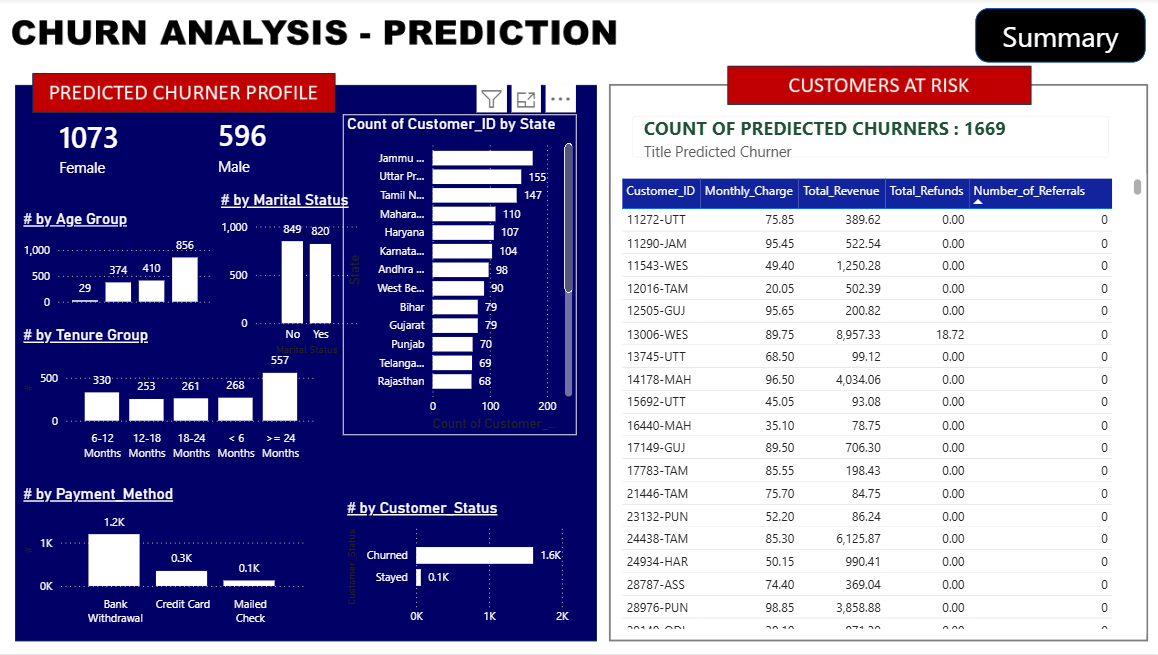

Layout of this report page (visuals, bound fields, positions):
{"tool":"powerbi","page":{"name":"churnprediction","canvas":[1280,720],"ordinal":1},"visuals":[{"type":"tableEx","fields":{"Values":["powerbi_data.Customer_ID","powerbi_data.Monthly_Charge","powerbi_data.Total_Revenue","powerbi_data.Total_Refunds","powerbi_data.Number_of_Referrals"]},"box":[682.9,192.9,581.4,504.3],"z":0},{"type":"cardVisual","fields":{"Data":["tbl_Measures.Title Predicted Churner"]},"box":[682.9,112.9,558.6,80],"z":1000},{"type":"cardVisual","fields":{"Data":["tbl_Measures.Count Predicted Churner"]},"box":[42.9,112.9,201.4,101.4],"z":2000},{"type":"cardVisual","fields":{"Data":["tbl_Measures.Count Predicted Churner"]},"box":[217.1,112.9,175.7,98.6],"z":3000},{"type":"clusteredColumnChart","fields":{"Category":["mapping_AgeGrp.Age Group"],"Y":["CountNonNull(powerbi_data.Customer_ID)"]},"box":[27.1,231.4,217.1,115.7],"z":4000},{"type":"clusteredColumnChart","fields":{"Category":["powerbi_data.Married"],"Y":["CountNonNull(powerbi_data.Customer_ID)"]},"box":[244.3,211.4,160,185.7],"z":5000},{"type":"clusteredColumnChart","fields":{"Category":["mapping_TenureGrp.Tenure Group"],"Y":["CountNonNull(powerbi_data.Customer_ID)"]},"box":[27.1,360,331.4,155.7],"z":6000},{"type":"clusteredBarChart","fields":{"Category":["powerbi_data.Customer_Status"],"Y":["CountNonNull(powerbi_data.Customer_ID)"]},"box":[382.9,548.6,257.1,148.6],"z":7000},{"type":"clusteredColumnChart","fields":{"Category":["powerbi_data.Payment_Method"],"Y":["CountNonNull(powerbi_data.Customer_ID)"]},"box":[27.1,534.3,318.6,162.9],"z":8000},{"type":"clusteredBarChart","fields":{"Category":["powerbi_data.State"],"Y":["CountNonNull(powerbi_data.Customer_ID)"]},"box":[382.9,127.1,257.1,352.9],"z":9000},{"type":"shape","box":[1077.1,11.4,187.1,60],"z":10000}]}

Visuals, with their boxes in screenshot pixels (x1, y1, x2, y2), scaled from the page's 1280x720 canvas onto the 1158x655 screenshot:
tableEx - powerbi_data.Customer_ID x powerbi_data.Monthly_Charge: [618, 175, 1144, 634]
cardVisual - tbl_Measures.Title Predicted Churner: [618, 103, 1123, 175]
cardVisual - tbl_Measures.Count Predicted Churner: [39, 103, 221, 195]
cardVisual - tbl_Measures.Count Predicted Churner: [196, 103, 355, 192]
clusteredColumnChart - mapping_AgeGrp.Age Group x CountNonNull(powerbi_data.Customer_ID): [25, 211, 221, 316]
clusteredColumnChart - powerbi_data.Married x CountNonNull(powerbi_data.Customer_ID): [221, 192, 366, 361]
clusteredColumnChart - mapping_TenureGrp.Tenure Group x CountNonNull(powerbi_data.Customer_ID): [25, 328, 324, 469]
clusteredBarChart - powerbi_data.Customer_Status x CountNonNull(powerbi_data.Customer_ID): [346, 499, 579, 634]
clusteredColumnChart - powerbi_data.Payment_Method x CountNonNull(powerbi_data.Customer_ID): [25, 486, 313, 634]
clusteredBarChart - powerbi_data.State x CountNonNull(powerbi_data.Customer_ID): [346, 116, 579, 437]
shape: [974, 10, 1144, 65]
